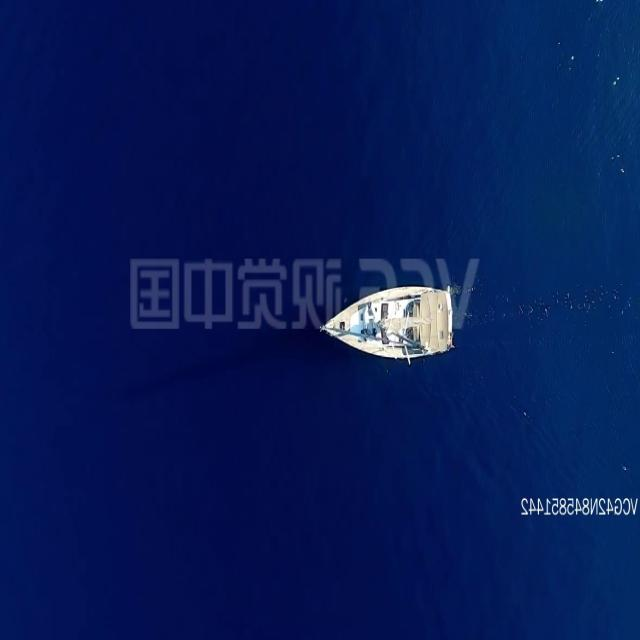sailboat: (316, 280, 454, 364)
